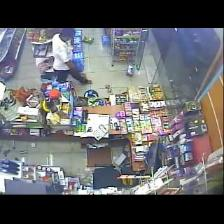person: (52, 28, 91, 83)
